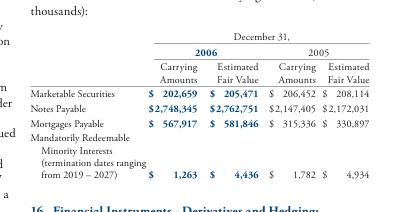table: (29, 29, 368, 180)
table column: (29, 29, 146, 180), (202, 29, 262, 180), (146, 29, 202, 180), (262, 29, 318, 180), (318, 29, 368, 180)
table column header: (29, 29, 368, 86)
table row: (29, 130, 368, 180), (29, 59, 368, 86), (29, 43, 368, 59), (29, 100, 368, 115), (29, 115, 368, 130), (29, 29, 368, 43), (29, 86, 368, 100)
table spanning cell: (146, 29, 368, 43), (146, 43, 262, 59), (262, 43, 368, 59)
